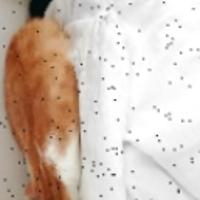asleep: (3, 18, 83, 200)
